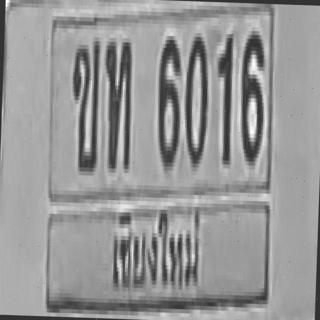A02: (68, 36, 100, 168)
A23: (100, 36, 132, 167)
N00: (182, 33, 209, 164)
N01: (214, 30, 233, 160)
N06: (238, 27, 265, 162), (154, 34, 182, 164)
P11: (99, 198, 208, 301)
